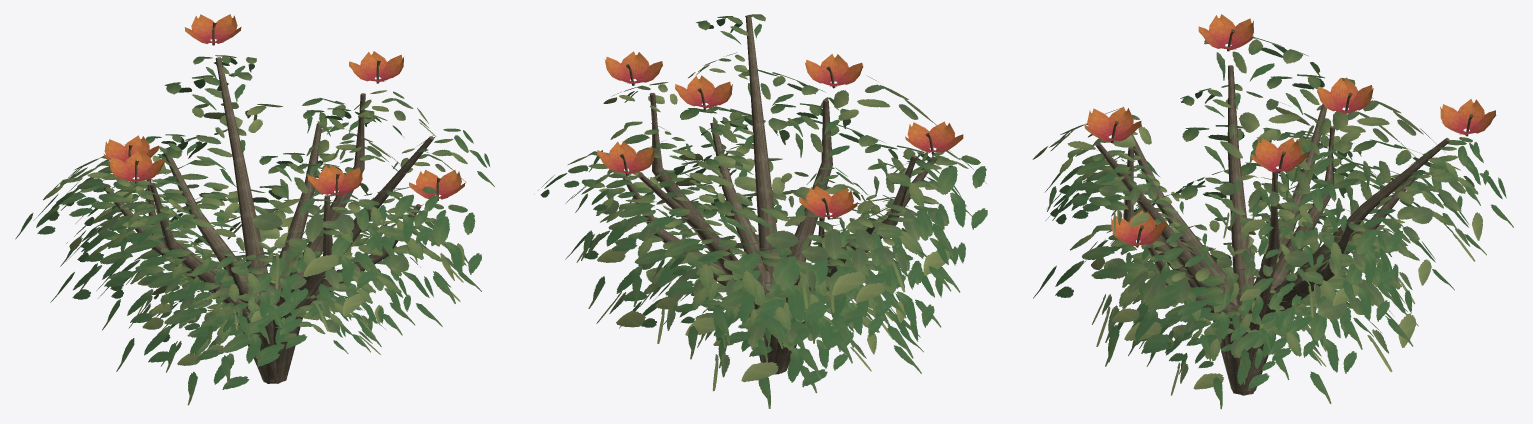
Rendered from tropical_hibiscus_bush.glb.
3 renders of one model, left to right at view 1: azimuth 30°, elevation 25°; view 2: azimuth 150°, elevation 25°; view 3: azimuth 270°, elevation 25°, orthographic. The views are drawn at different scales.
Visible parts, largest first — view 1: tropical_hibiscus_bush; view 2: tropical_hibiscus_bush; view 3: tropical_hibiscus_bush.
Part boxes in pixels (bbox=[...]): tropical_hibiscus_bush: bbox=[15, 14, 494, 405]; tropical_hibiscus_bush: bbox=[538, 14, 987, 408]; tropical_hibiscus_bush: bbox=[1032, 14, 1513, 409].
Bounding box in the file's own units: 2.2 × 1.45 × 2.1.
Materials: 2 (2 with a texture image).
